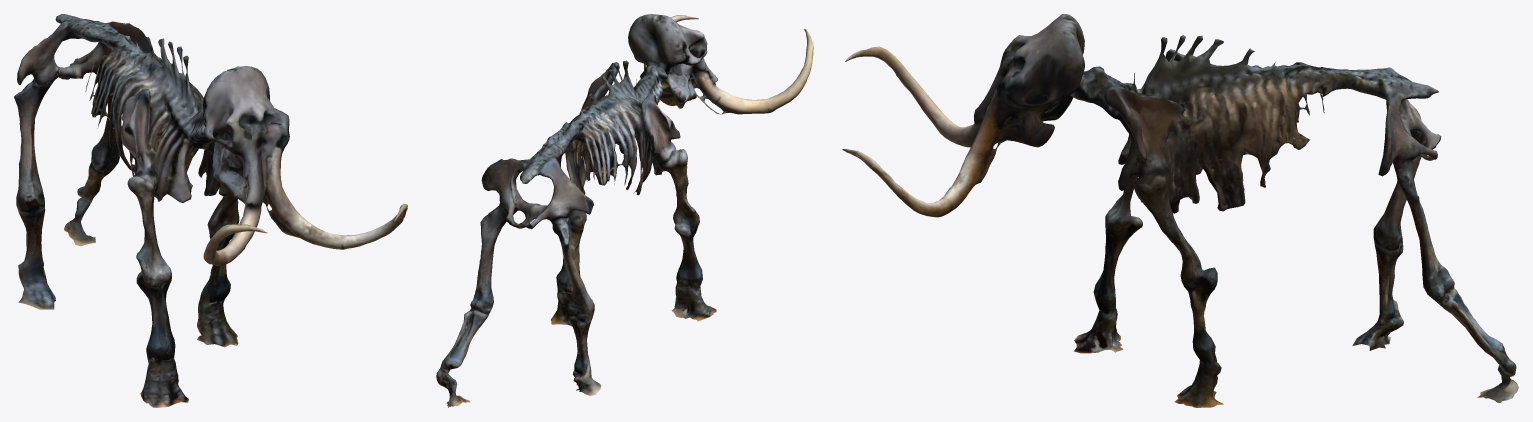
The model's file is jeune mammouth.glb.
3 views of the same model, side by side, from view 1: azimuth 30°, elevation 25°; view 2: azimuth 150°, elevation 25°; view 3: azimuth 270°, elevation 25° (orthographic). The views are drawn at different scales.
Parts seen in each view (by area): view 1: textured_output; view 2: textured_output; view 3: textured_output.
Boxes of the visible parts, box(x1,y1,x2,y2) form: textured_output: box(14, 14, 407, 407); textured_output: box(436, 14, 813, 407); textured_output: box(842, 14, 1518, 407).
Bounding box in the file's own units: 0.9237 × 1.49 × 2.56.
1 material, 1 textured.
